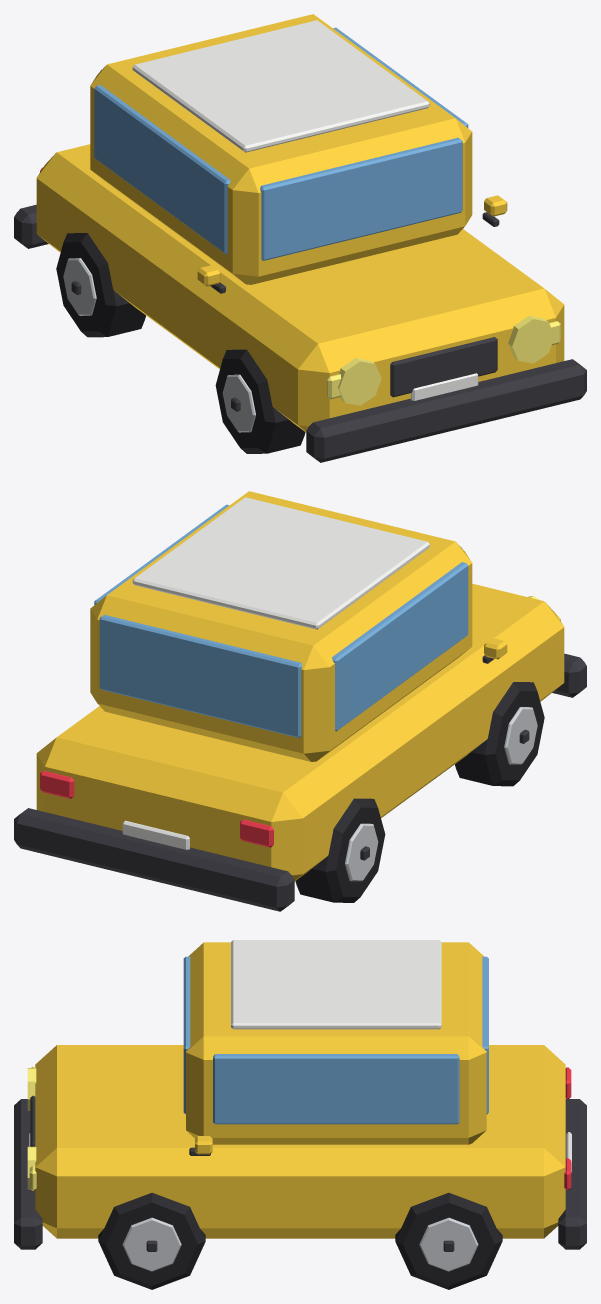
The model's file is YellowCompactCar.fbx.
The picture shows the model from 3 angles, top to bottom: view 1: azimuth 30°, elevation 25°; view 2: azimuth 150°, elevation 25°; view 3: azimuth 270°, elevation 25°; orthographic projection. The views are drawn at different scales.
Parts seen in each view (by area): view 1: YellowCompactCar, YellowCompactCar_WheelFR, YellowCompactCar_WheelBR; view 2: YellowCompactCar, YellowCompactCar_WheelBR, YellowCompactCar_WheelFR; view 3: YellowCompactCar, YellowCompactCar_WheelBL, YellowCompactCar_WheelFL.
Boxes of the visible parts, x1,y1,x2,y2 form: YellowCompactCar: [14, 14, 586, 462]; YellowCompactCar_WheelFR: [215, 349, 305, 453]; YellowCompactCar_WheelBR: [56, 233, 145, 337]; YellowCompactCar: [14, 491, 586, 911]; YellowCompactCar_WheelBR: [295, 798, 385, 902]; YellowCompactCar_WheelFR: [455, 682, 544, 786]; YellowCompactCar: [14, 940, 586, 1249]; YellowCompactCar_WheelBL: [395, 1192, 502, 1289]; YellowCompactCar_WheelFL: [98, 1192, 205, 1289].
Bounding box in the file's own units: 4.55 × 3.82 × 8.
1 material, 1 textured.
